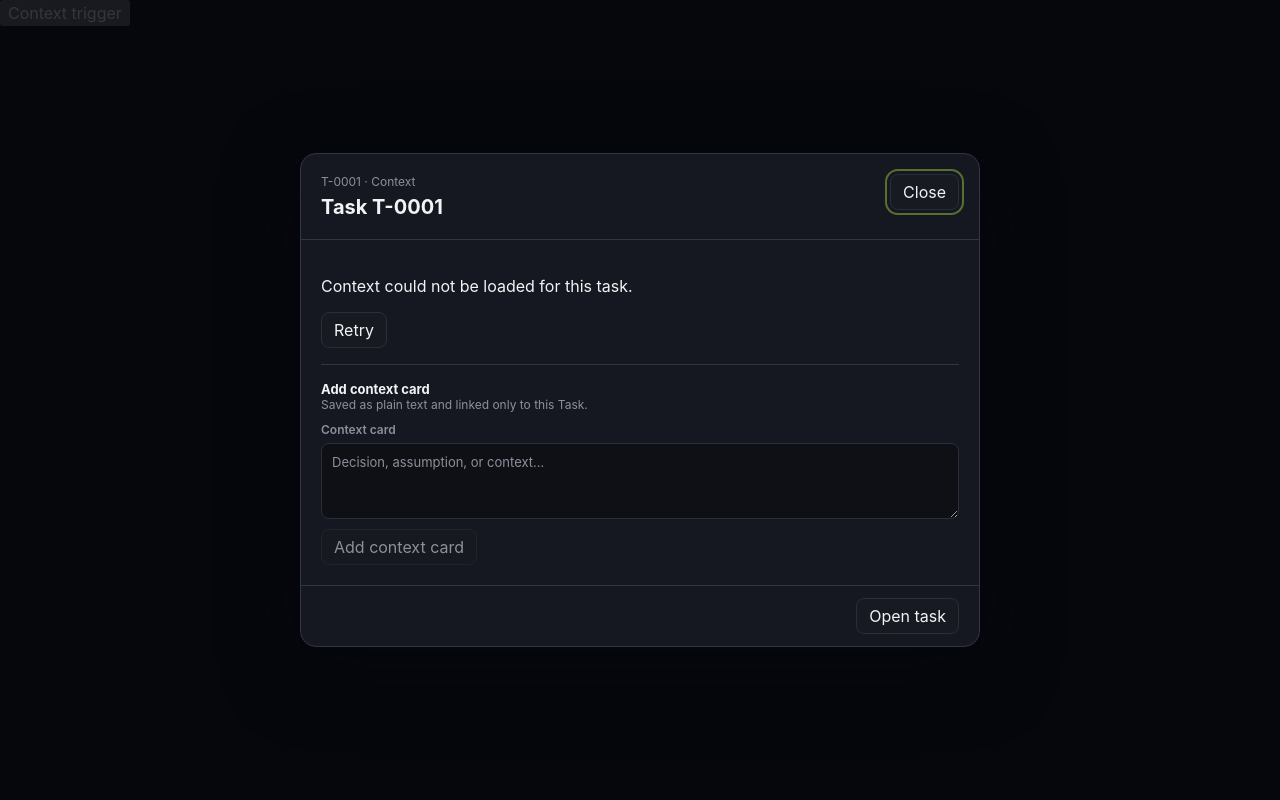
shows a truthful error, retries explicitly and renders returned empty context
Expected: the message shows "Context could not be loaded", [321, 276, 633, 296]
Click the button "Retry" at (354, 330), box [321, 312, 387, 348]
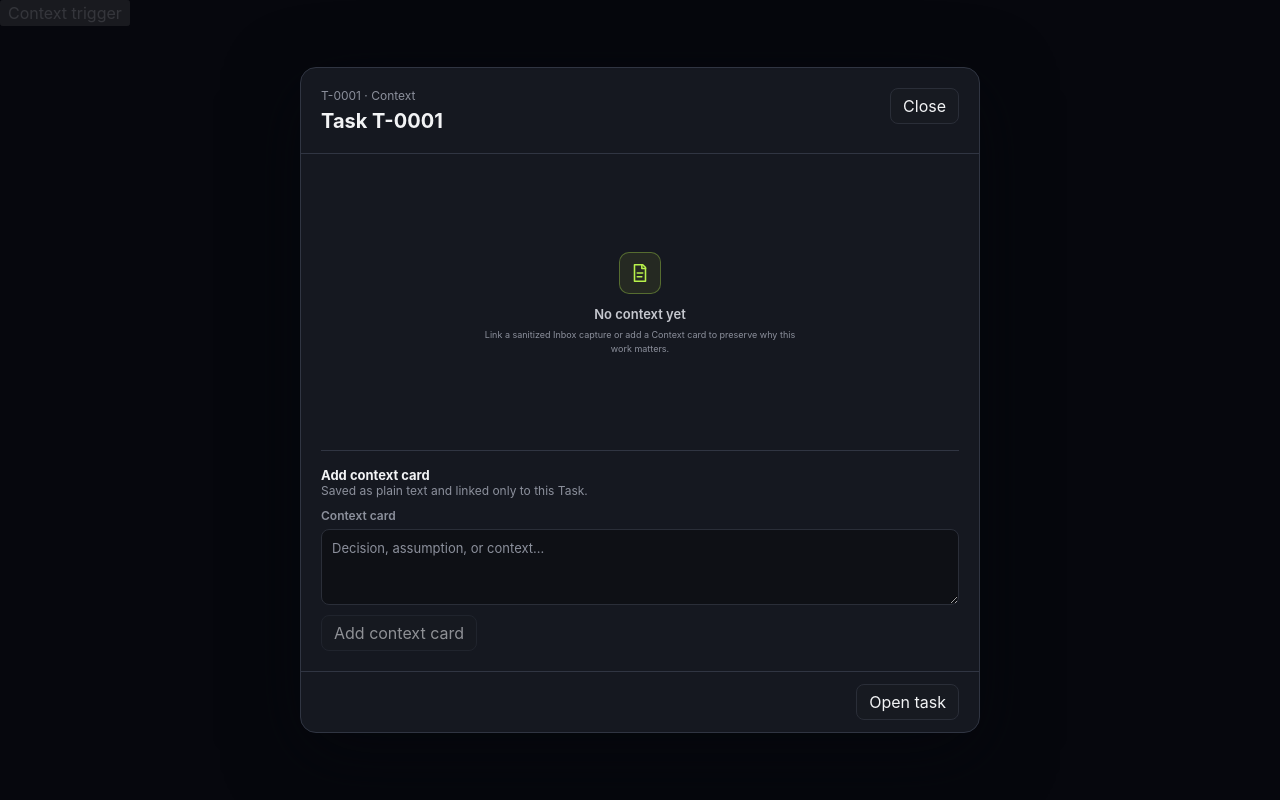
Expected: the heading "No context yet" is shown, [594, 306, 686, 322]
